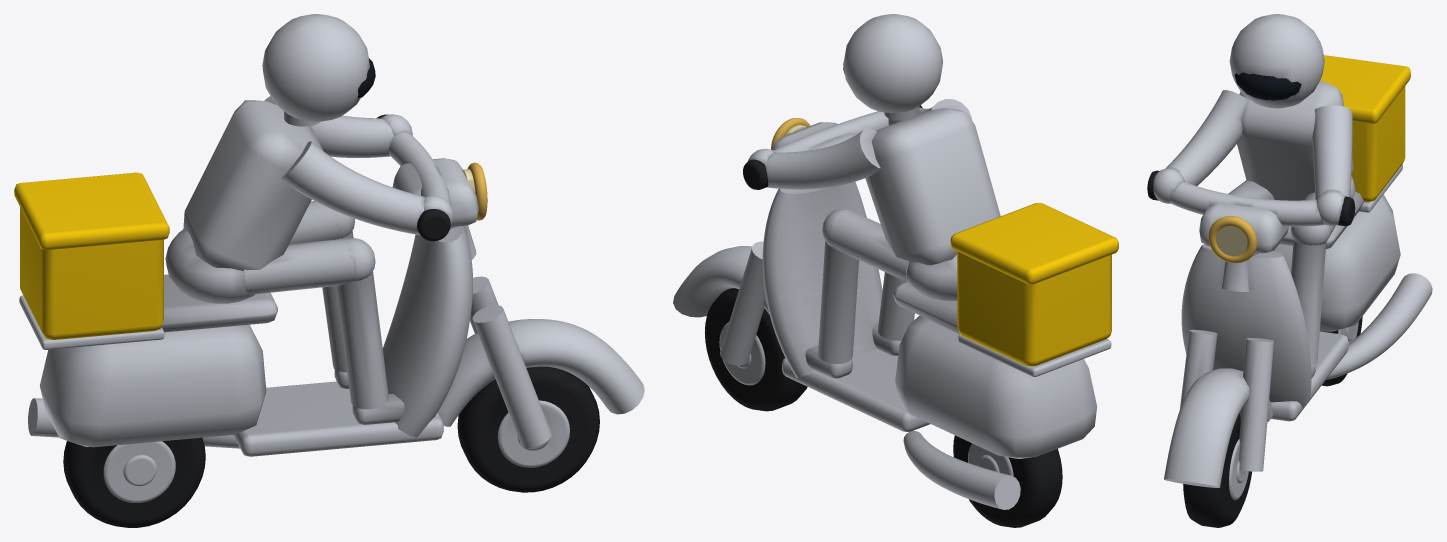
Rendered from piece-7.glb.
3 views of the same model, side by side, from view 1: azimuth 30°, elevation 25°; view 2: azimuth 150°, elevation 25°; view 3: azimuth 270°, elevation 25° (orthographic). The views are drawn at different scales.
Parts seen in each view (by area): view 1: Cylinder; view 2: Cylinder; view 3: Cylinder.
Boxes of the visible parts, x1,y1,x2,y2 form: Cylinder: [14, 14, 644, 527]; Cylinder: [673, 14, 1118, 527]; Cylinder: [1147, 14, 1432, 527].
Size of the model in its own units: 2.28 by 1.98 by 1.2.
